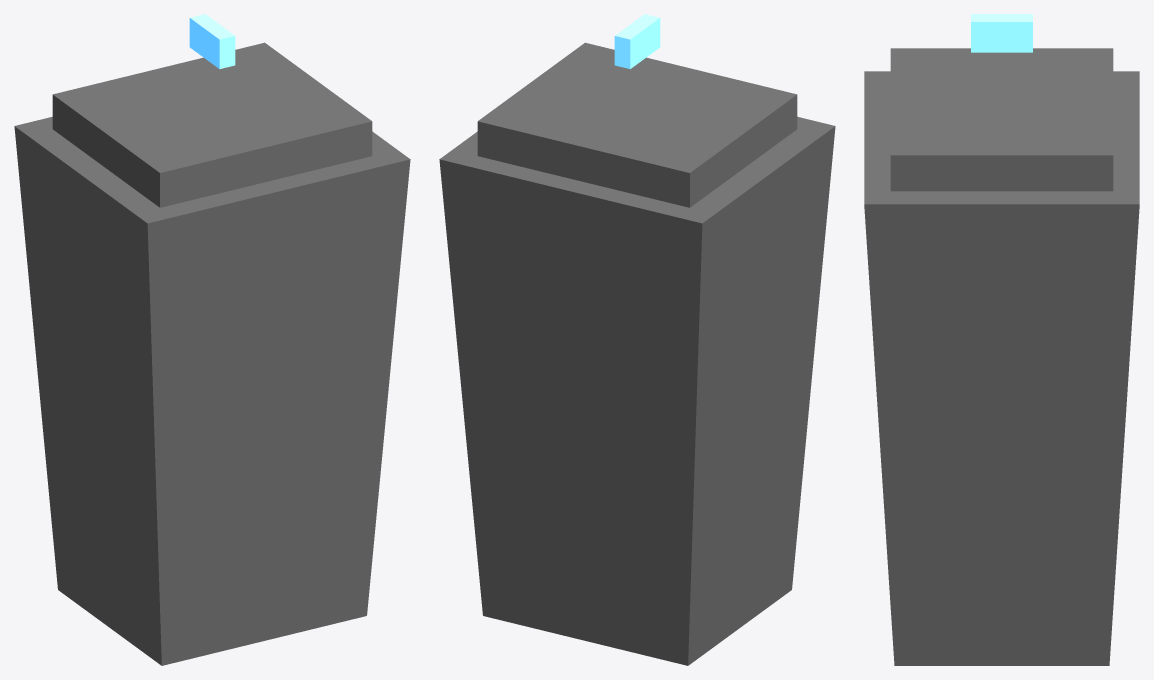
File: bluechip_final.glb
3 renders of one model, left to right at view 1: azimuth 30°, elevation 25°; view 2: azimuth 150°, elevation 25°; view 3: azimuth 270°, elevation 25°, orthographic. The views are drawn at different scales.
Visible parts, largest first — view 1: Cube.013, Cube.014; view 2: Cube.013, Cube.014; view 3: Cube.013, Cube.014.
Part boxes in pixels (x1,y1,x2,y2): Cube.013: [14, 42, 410, 665]; Cube.014: [189, 14, 235, 69]; Cube.013: [439, 42, 835, 665]; Cube.014: [614, 14, 660, 69]; Cube.013: [864, 48, 1139, 665]; Cube.014: [971, 14, 1032, 52].
Size of the model in its own units: 2.05 by 4.3 by 1.8.
